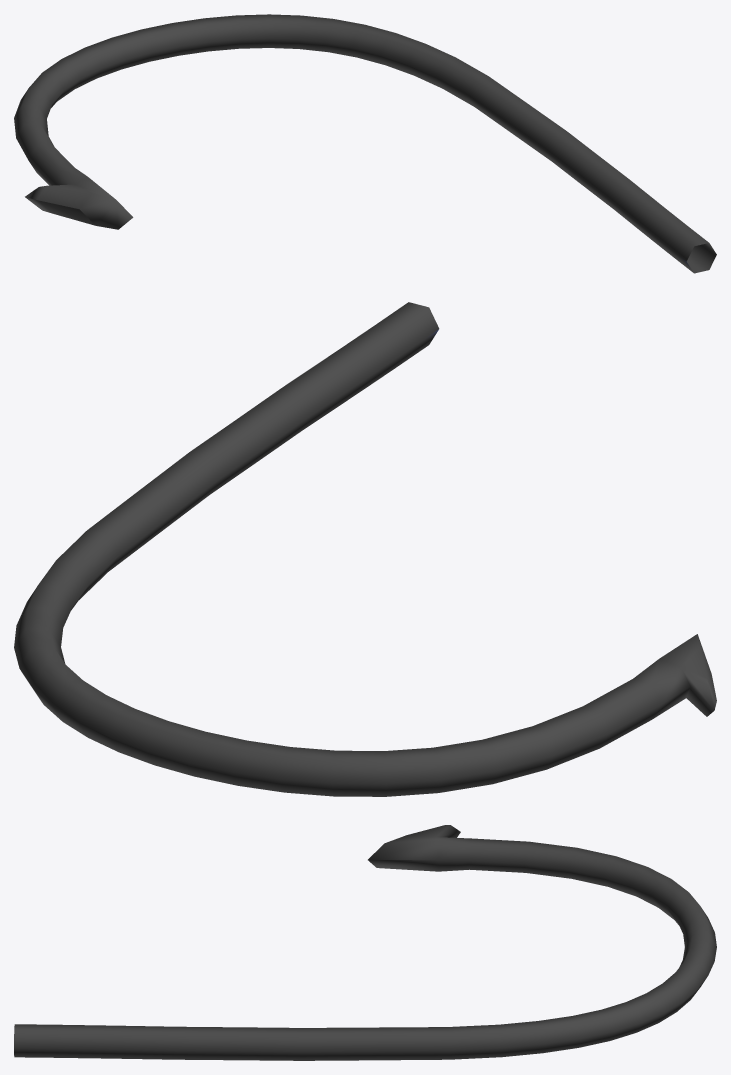
File: Hook.fbx
The picture shows the model from 3 angles, top to bottom: view 1: azimuth 30°, elevation 25°; view 2: azimuth 150°, elevation 25°; view 3: azimuth 270°, elevation 25°; orthographic projection. The views are drawn at different scales.
Parts seen in each view (by area): view 1: NurbsPath; view 2: NurbsPath; view 3: NurbsPath.
Boxes of the visible parts, x1,y1,x2,y2 form: NurbsPath: (14,14,716,273); NurbsPath: (14,302,716,796); NurbsPath: (14,825,716,1060).
Size of the model in its own units: 0.8357 by 0.055 by 1.13.
